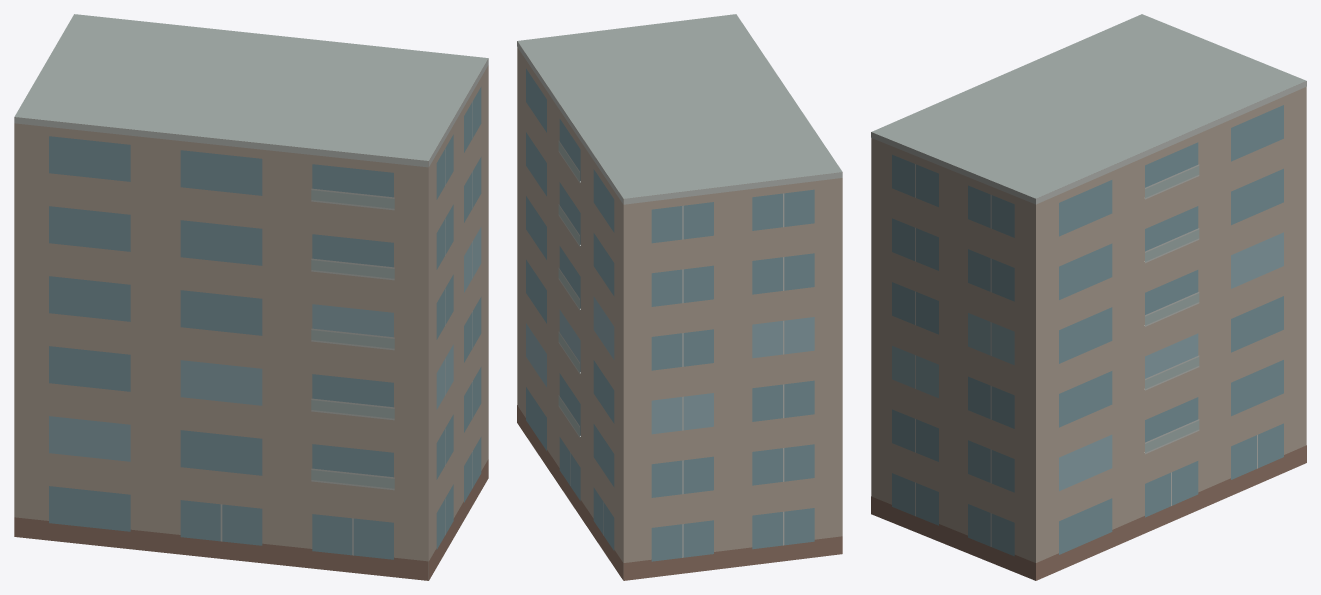
File: survey-upis-32952531.glb
The picture shows the model from 3 angles, left to right: view 1: azimuth 30°, elevation 25°; view 2: azimuth 150°, elevation 25°; view 3: azimuth 270°, elevation 25°; orthographic projection. The views are drawn at different scales.
Visible parts, largest first — view 1: survey-upis-32952531.tmp; view 2: survey-upis-32952531.tmp; view 3: survey-upis-32952531.tmp.
Part boxes in pixels (x1,y1,x2,y2): survey-upis-32952531.tmp: (14,14,488,580); survey-upis-32952531.tmp: (517,14,842,580); survey-upis-32952531.tmp: (871,14,1306,580).
Bounding box in the file's own units: 16.6 × 16 × 16.53.
